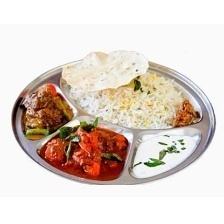sabzi: (20, 82, 71, 140)
